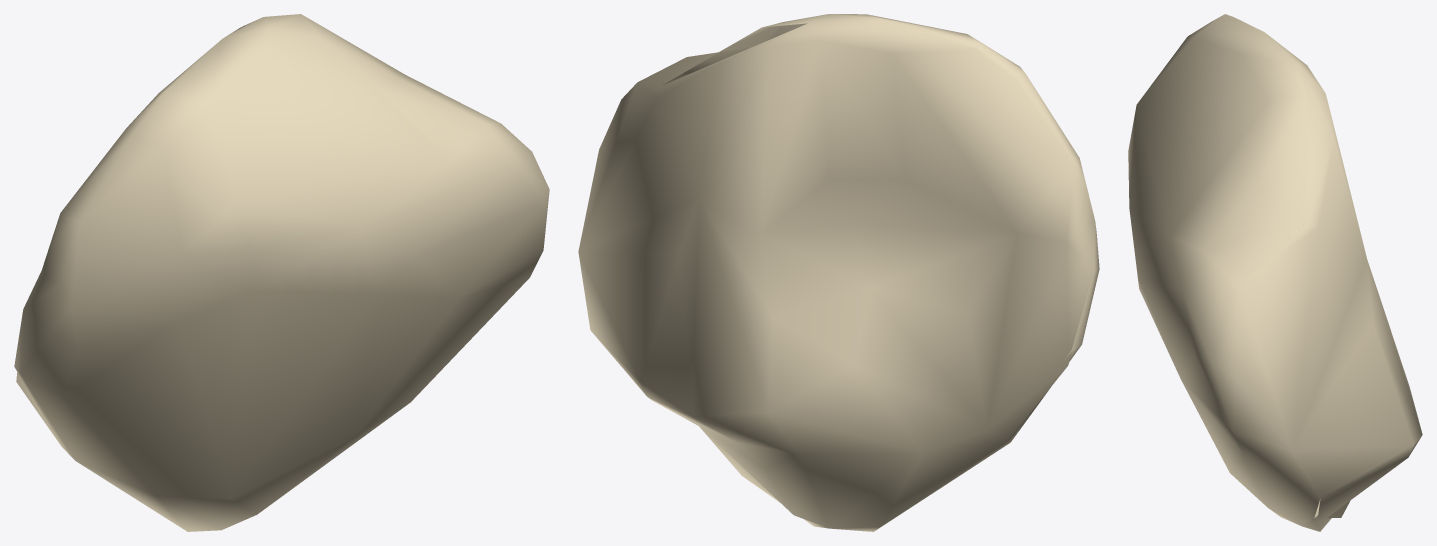
Rendered from esqueleto-patella-r.glb.
3 renders of one model, left to right at view 1: azimuth 30°, elevation 25°; view 2: azimuth 150°, elevation 25°; view 3: azimuth 270°, elevation 25°, orthographic. The views are drawn at different scales.
Visible parts, largest first — view 1: Patella.r; view 2: Patella.r; view 3: Patella.r.
Part boxes in pixels (x1,y1,x2,y2): Patella.r: [14, 14, 549, 531]; Patella.r: [578, 14, 1099, 531]; Patella.r: [1128, 14, 1422, 531].
Size of the model in its own units: 0.0432 by 0.0409 by 0.0228.
